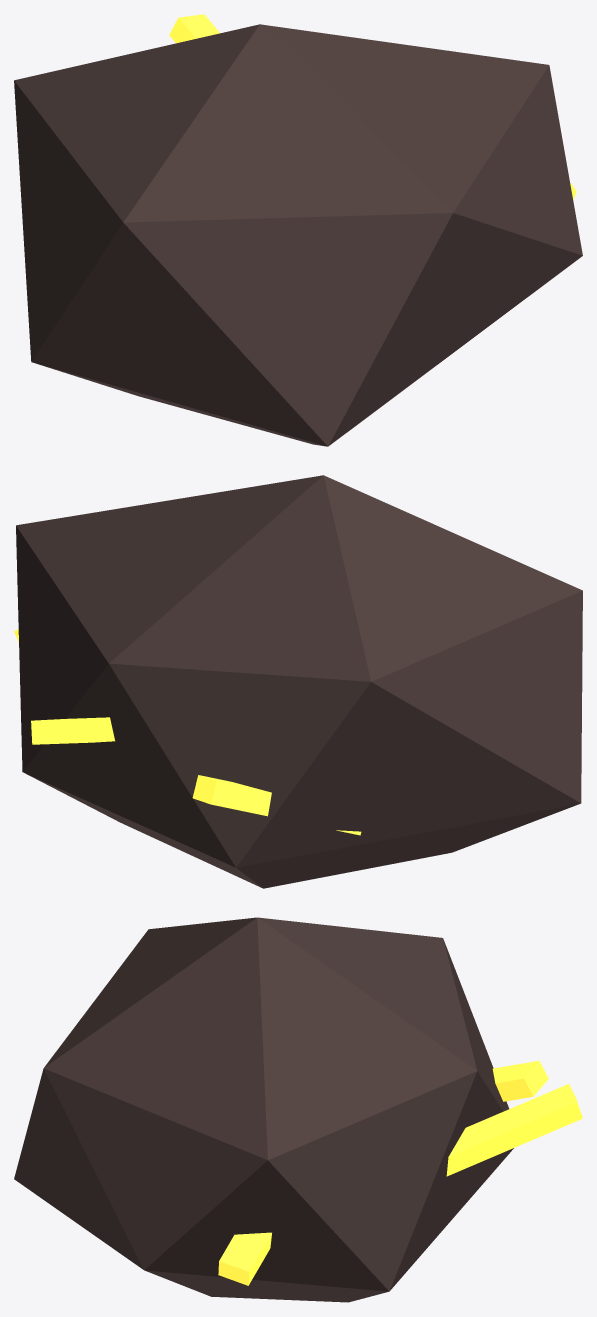
Rendered from LavaRock.fbx.
3 renders of one model, top to bottom at view 1: azimuth 30°, elevation 25°; view 2: azimuth 150°, elevation 25°; view 3: azimuth 270°, elevation 25°, orthographic. The views are drawn at different scales.
Visible parts, largest first — view 1: Basalt, Lava; view 2: Basalt, Lava; view 3: Basalt, Lava.
Boxes of the visible parts, left/top/right/bottom form: Basalt: left=14, top=24, right=582, bottom=446; Lava: left=169, top=14, right=576, bottom=199; Basalt: left=16, top=475, right=582, bottom=888; Lava: left=14, top=629, right=361, bottom=835; Basalt: left=14, top=917, right=513, bottom=1302; Lava: left=218, top=1060, right=582, bottom=1285.
Size of the model in its own units: 2.14 by 1.27 by 2.07.
